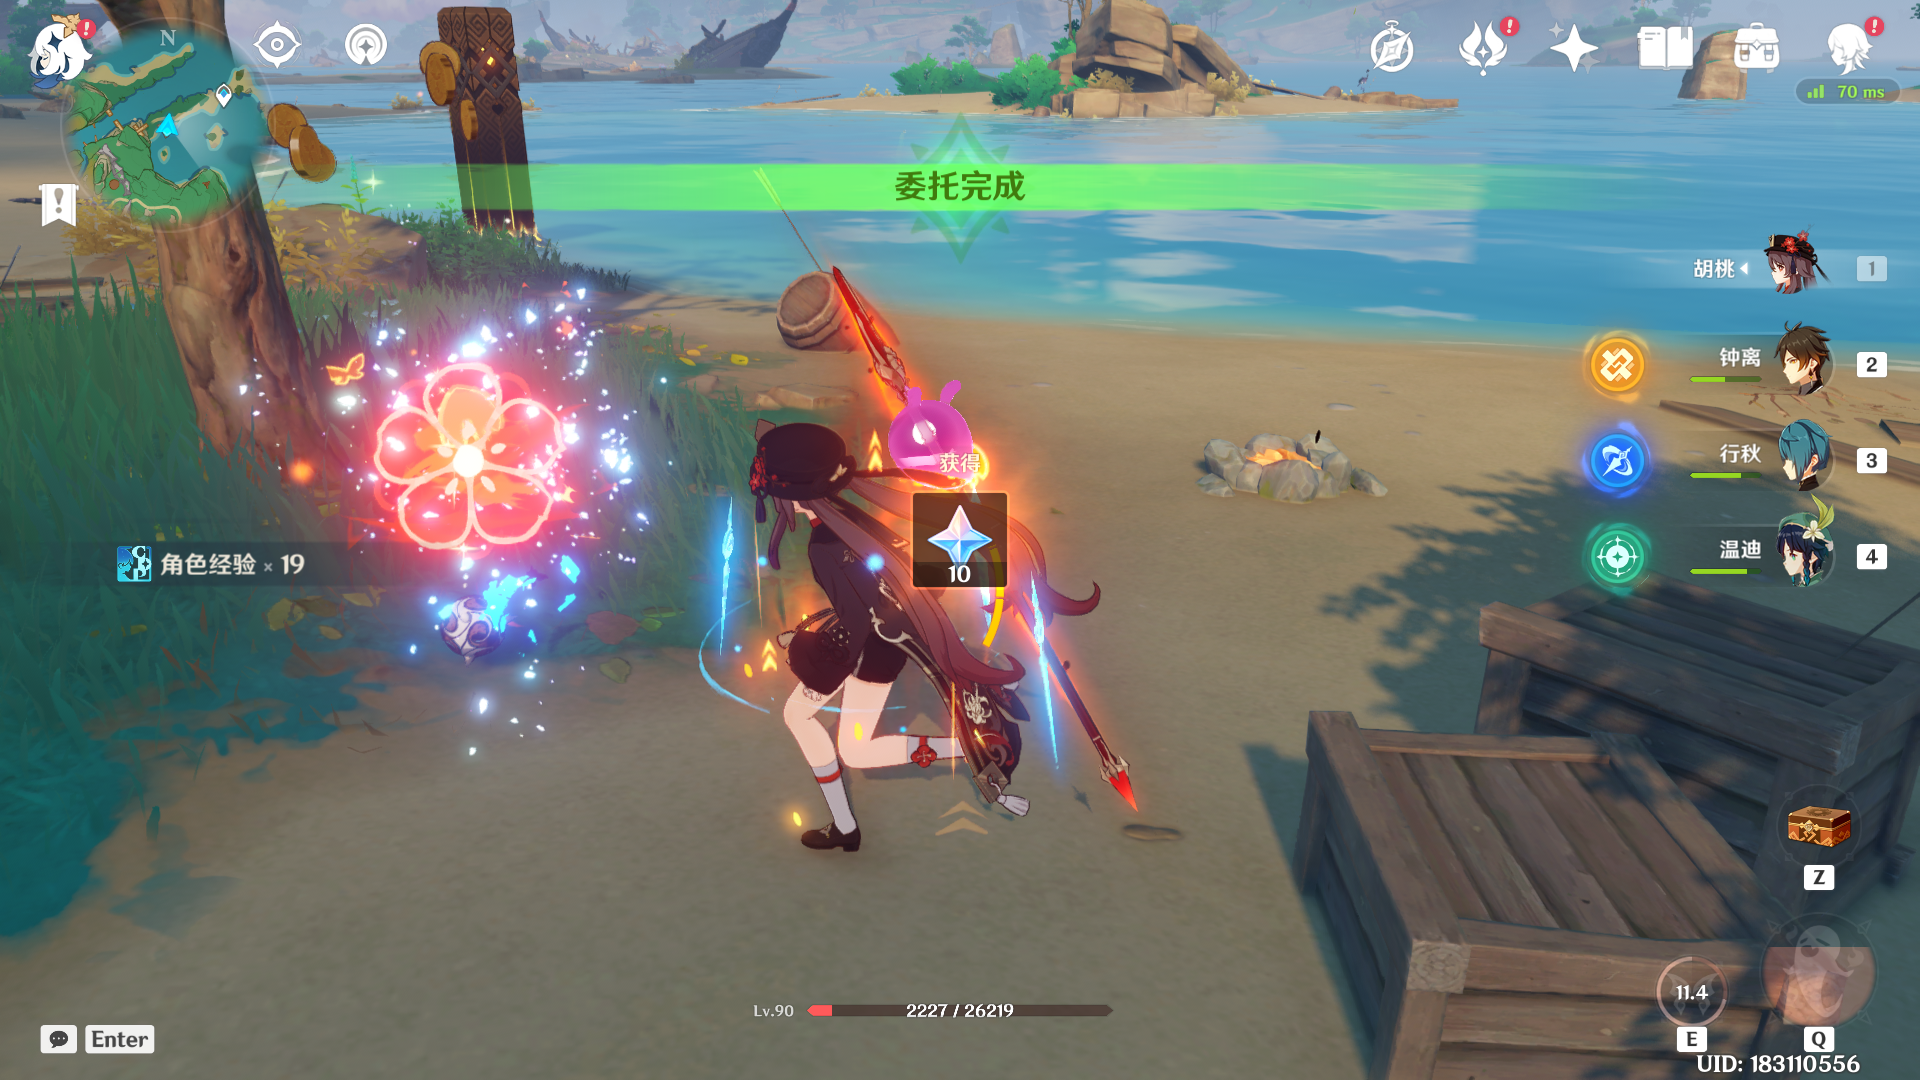character: (679, 348, 1044, 955)
